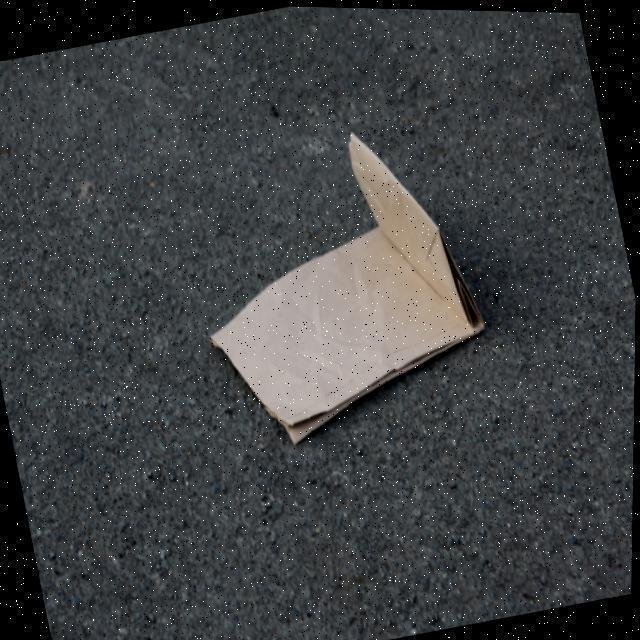Paper_Bag: (176, 109, 507, 460)
